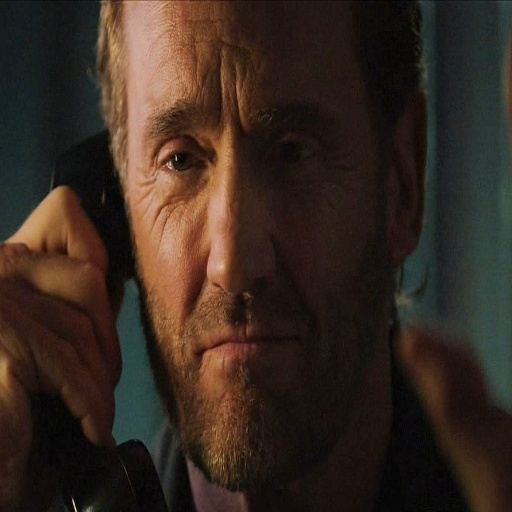hand: (5, 174, 126, 465)
